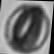correct: (0, 4, 54, 54)
